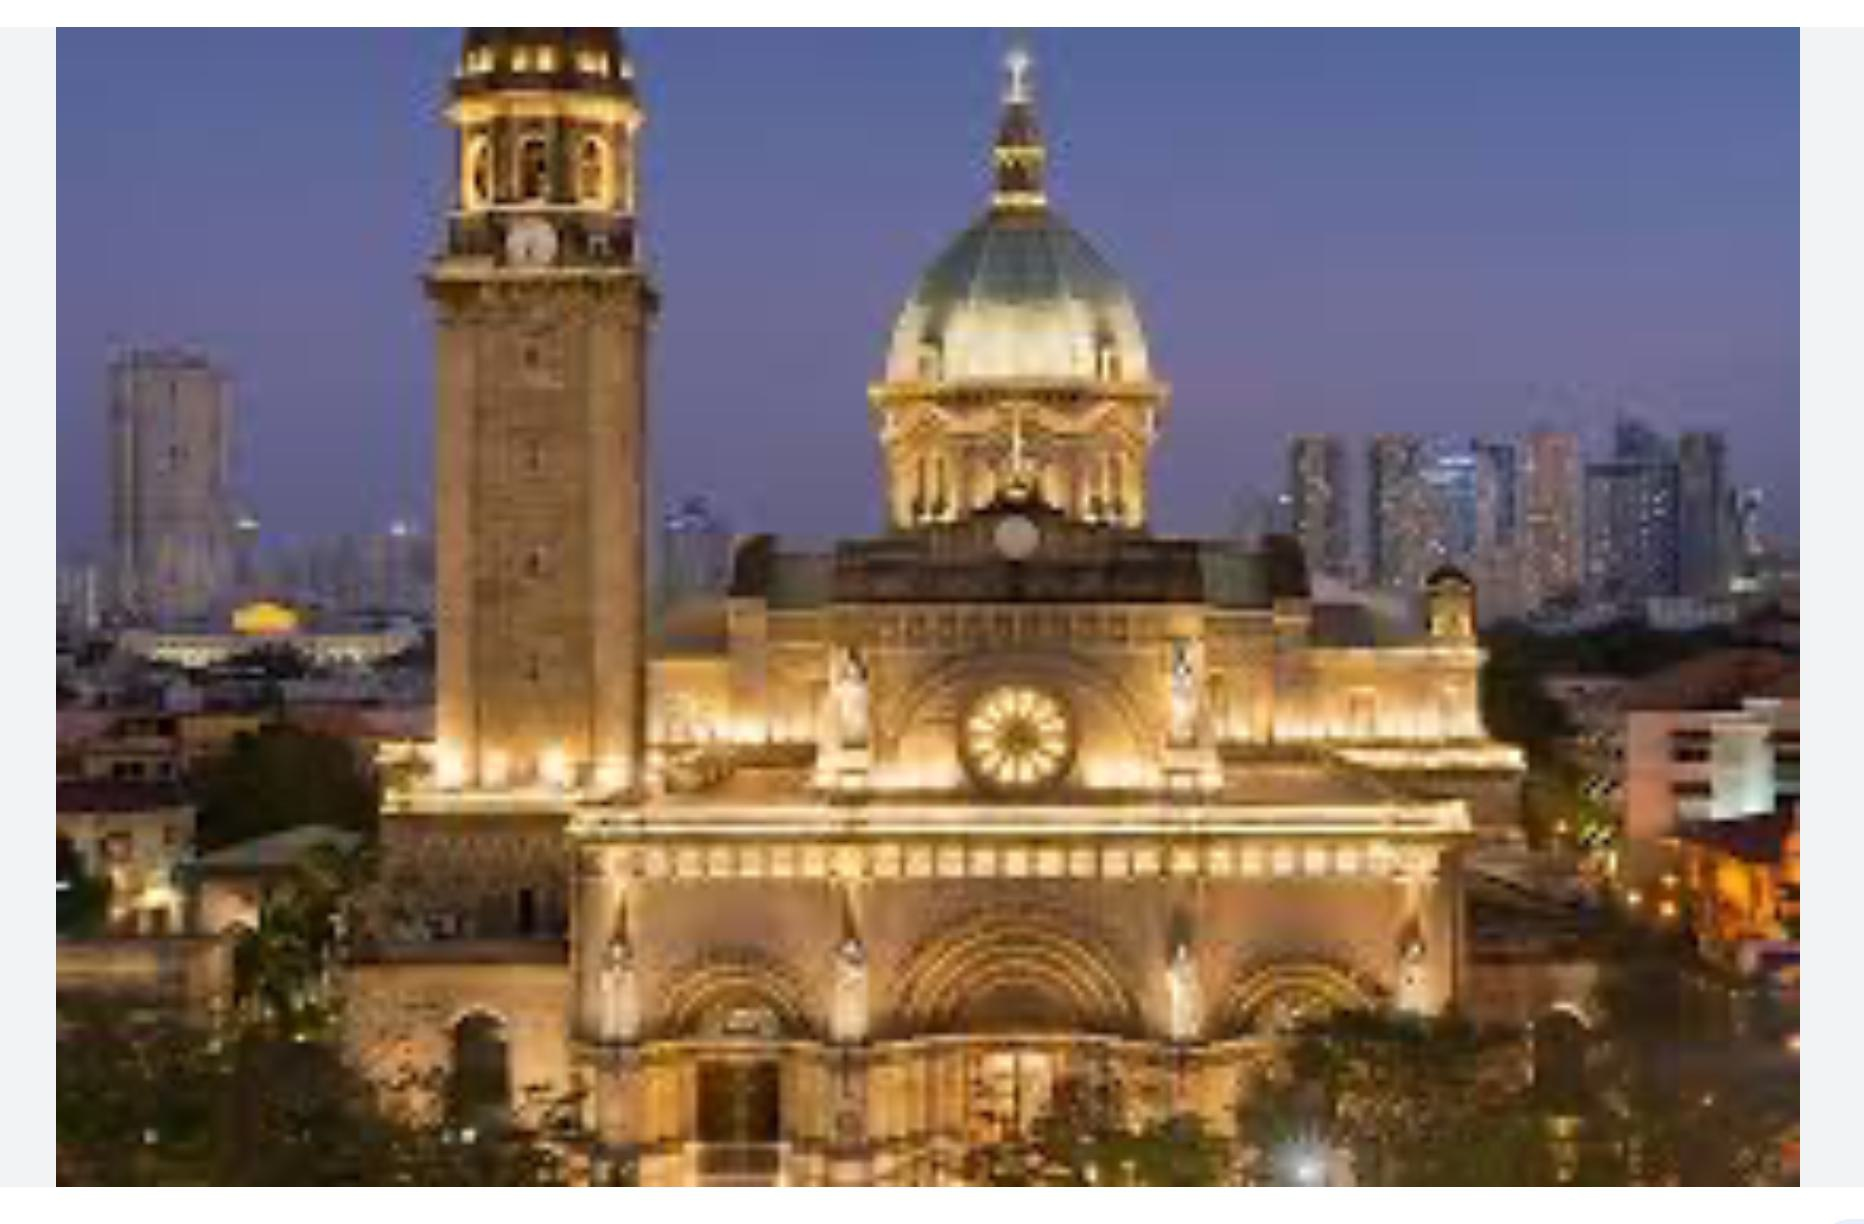manila_cathedral_church_intramuros_manila: (358, 33, 1540, 1199)
